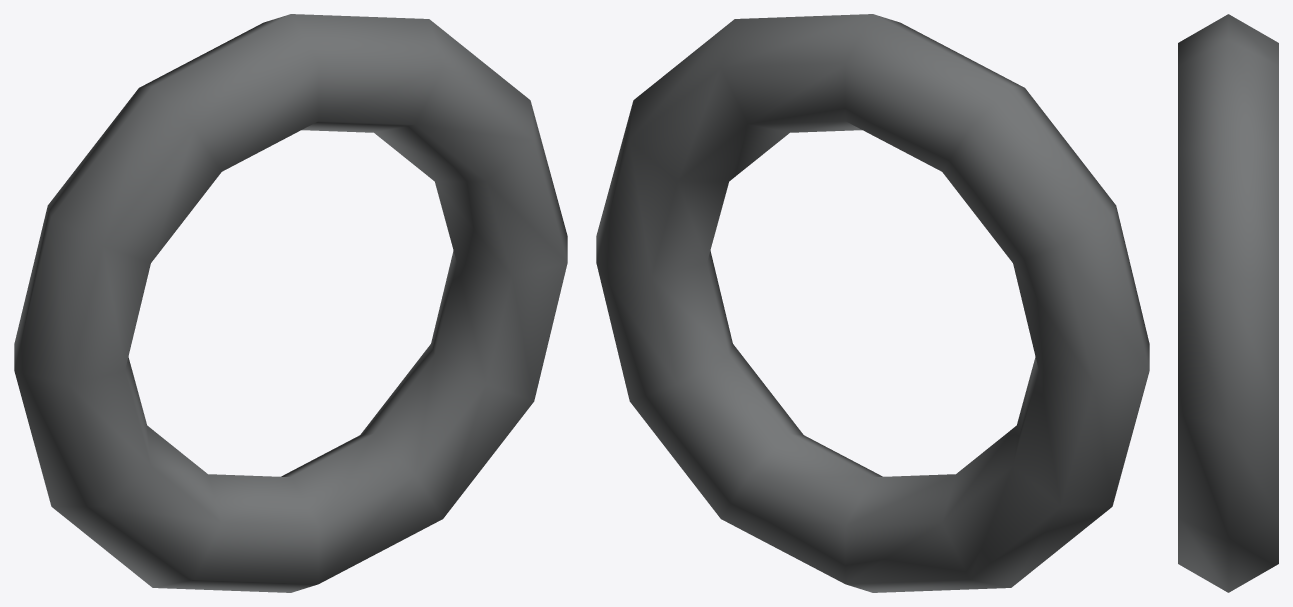
Rendered from Chain_09.fbx.
3 renders of one model, left to right at view 1: azimuth 30°, elevation 25°; view 2: azimuth 150°, elevation 25°; view 3: azimuth 270°, elevation 25°, orthographic. The views are drawn at different scales.
Visible parts, largest first — view 1: Chain_09; view 2: Chain_09; view 3: Chain_09.
Boxes of the visible parts, bbox=[...] form: Chain_09: bbox=[14, 14, 567, 592]; Chain_09: bbox=[596, 14, 1149, 592]; Chain_09: bbox=[1178, 14, 1278, 592].
Size of the model in its own units: 0.8153 by 0.8153 by 0.1412.
